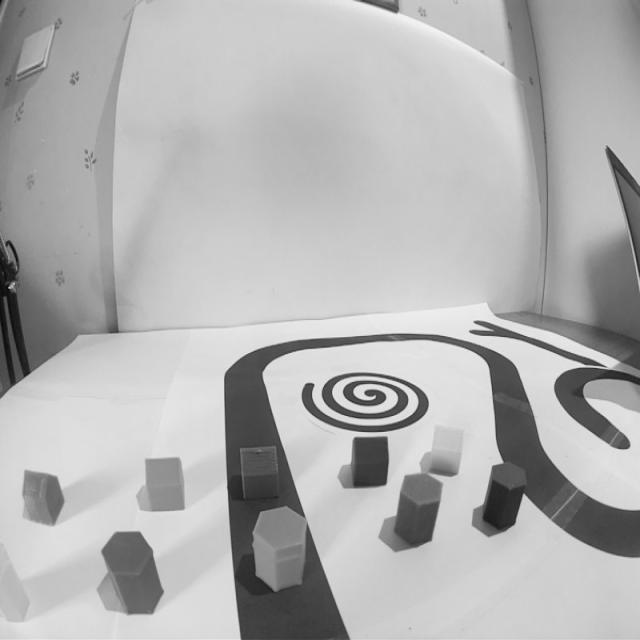hexagon: (100, 531, 163, 616), (251, 506, 307, 593), (394, 472, 442, 545), (482, 462, 528, 531), (1, 545, 30, 622)
home: (22, 469, 64, 526), (239, 446, 279, 501), (144, 458, 184, 512), (351, 436, 388, 487), (429, 426, 464, 477)
lineStraight: (226, 475, 352, 639)
nest: (301, 369, 431, 431)
